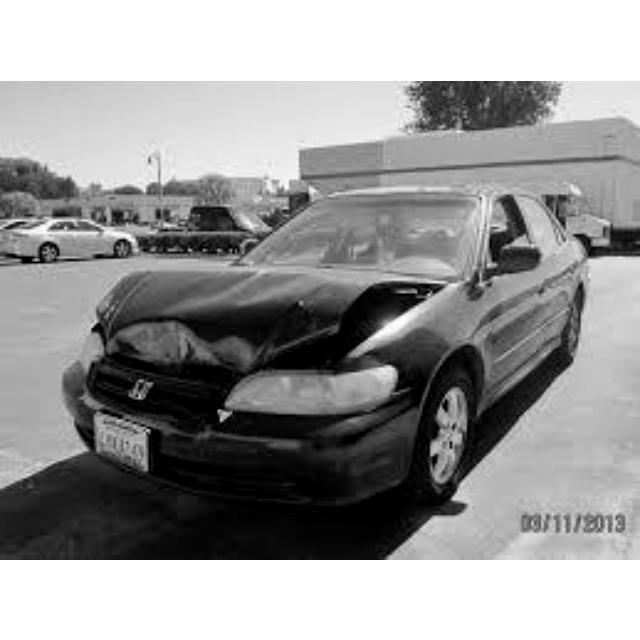bonnet-dent: (119, 254, 363, 345)
